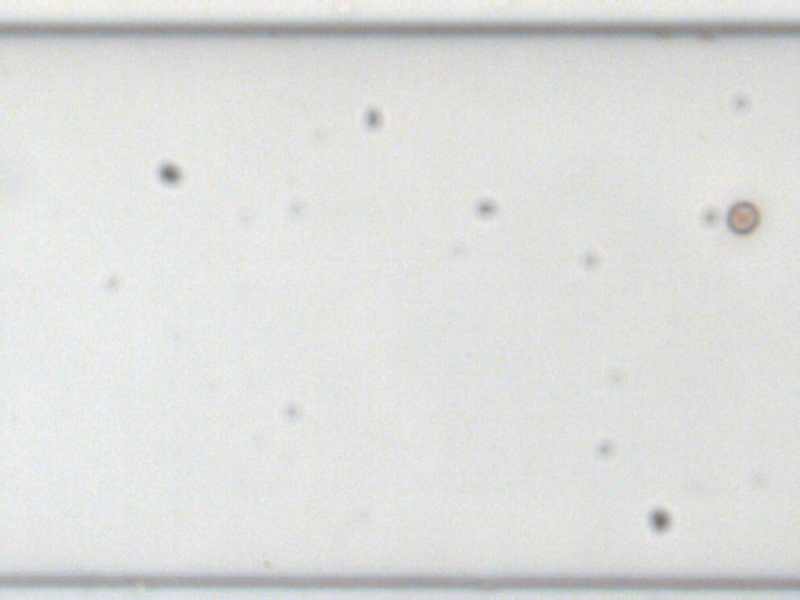Porphyridium: (725, 200, 759, 234)
